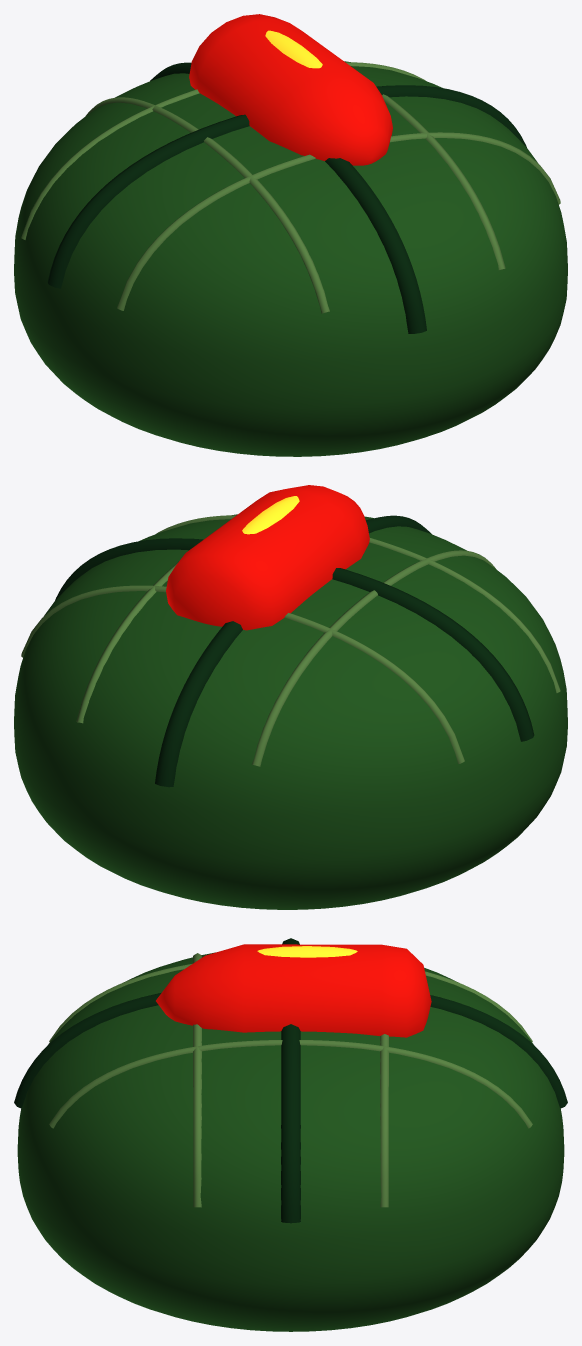
The model's file is pu_single_shot.glb.
The picture shows the model from 3 angles, top to bottom: view 1: azimuth 30°, elevation 25°; view 2: azimuth 150°, elevation 25°; view 3: azimuth 270°, elevation 25°; orthographic projection. The views are drawn at different scales.
Visible parts, largest first — view 1: orb, pod, orb_groove_2, orb_seam_2, pod_core; view 2: orb, pod, orb_groove_2, orb_seam_2, pod_core; view 3: orb, pod, orb_groove_2, orb_seam_2, pod_core.
Part boxes in pixels (left/top/right/bottom): orb: left=14, top=61, right=567, bottom=456; pod: left=189, top=14, right=392, bottom=165; orb_groove_2: left=47, top=62, right=526, bottom=333; orb_seam_2: left=21, top=62, right=560, bottom=313; pod_core: left=265, top=30, right=322, bottom=68; orb: left=14, top=514, right=567, bottom=909; pod: left=166, top=485, right=369, bottom=630; orb_groove_2: left=55, top=515, right=534, bottom=787; orb_seam_2: left=21, top=515, right=560, bottom=766; pod_core: left=242, top=496, right=299, bottom=534; orb: left=17, top=952, right=564, bottom=1331; pod: left=156, top=944, right=431, bottom=1037; orb_groove_2: left=14, top=938, right=567, bottom=1223; orb_seam_2: left=49, top=953, right=532, bottom=1207; pod_core: left=257, top=946, right=357, bottom=957.
Size of the model in its own units: 20.88 by 14.15 by 21.27.
